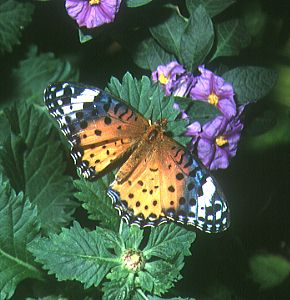Argyreus hyperbius: (38, 71, 232, 234)
butterfly: (40, 73, 234, 236)
